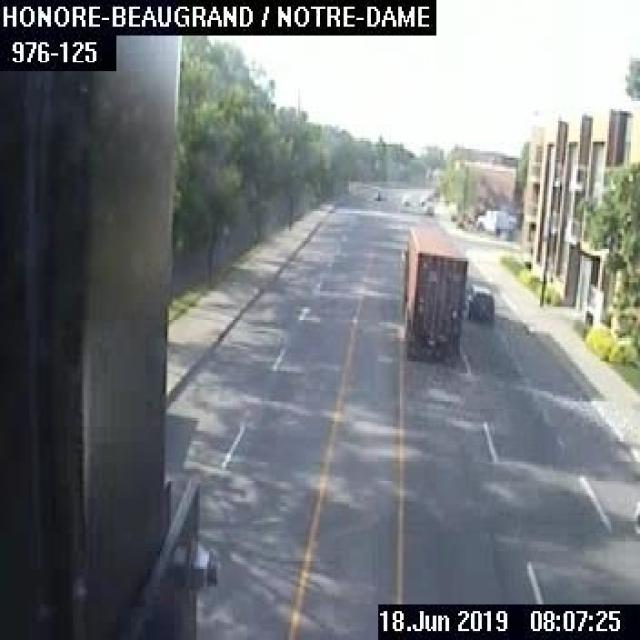vehicle: (399, 220, 467, 362), (465, 282, 493, 321), (422, 201, 434, 214), (371, 188, 384, 199), (401, 194, 409, 204)
